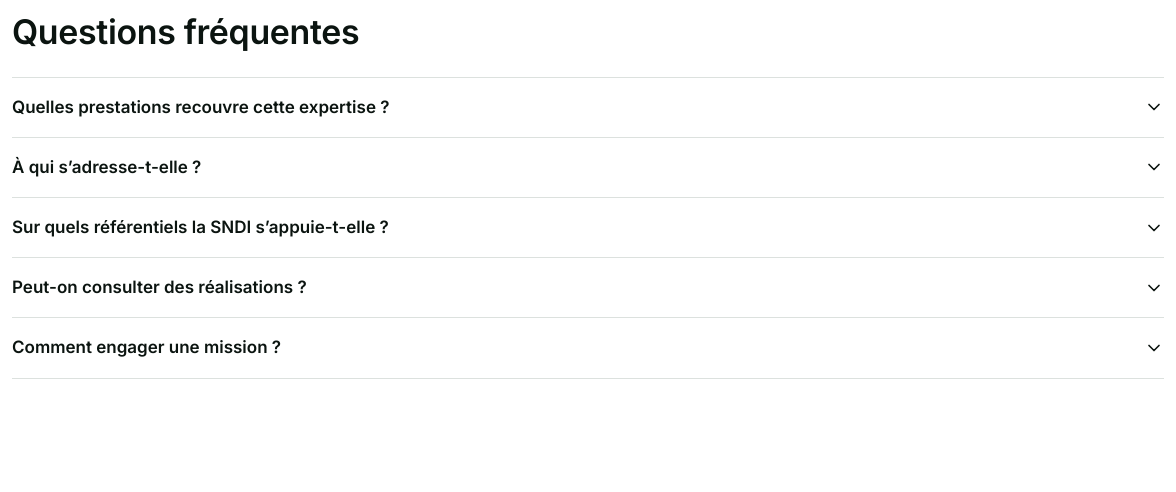
Test: détail d’une expertise — sections › la foire aux questions révèle la réponse à l’ouverture
The image size is (1176, 492).
Click the button "Sur quels référentiels la SNDI s’appuie-t-elle ?" at coordinates (200, 227), box [12,198,1164,257]
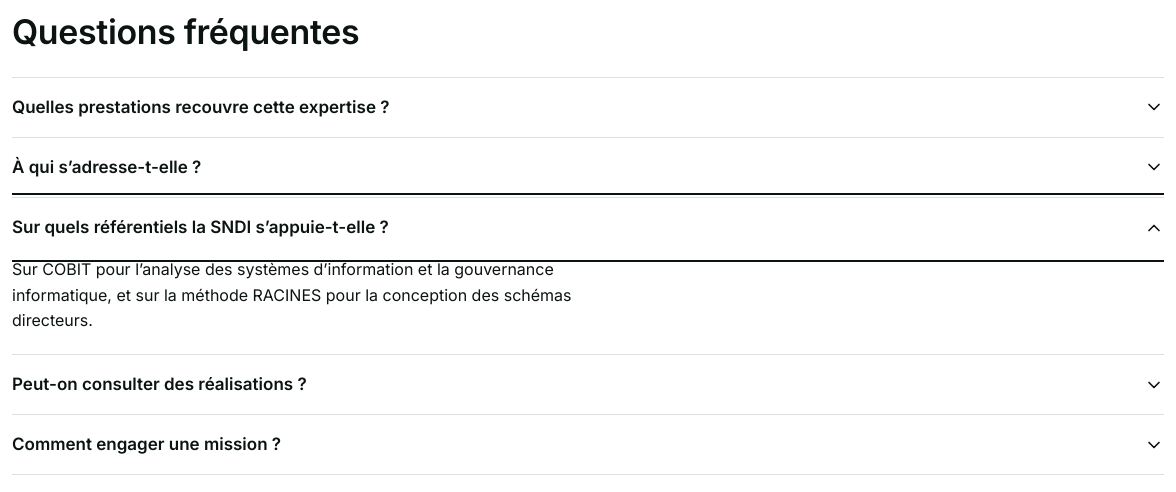
Expected: the button "Sur quels référentiels la SNDI s’appuie-t-elle ?" is expanded, [12,198,1164,257]
Expected: the text "Sur COBIT pour l’analyse" is shown, [12,259,572,330]
